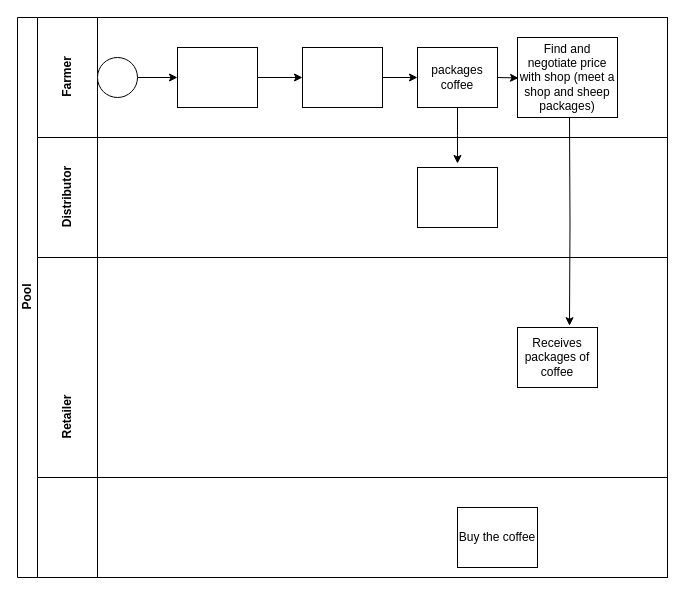
Image size: 685x595. Some labels were removed from this diagram. Each missing label, with the centre of its shape:
"Buy packages" belongs at point 457,197.
"Consumer" belongs at point 352,527.
"Harvest coffee" belongs at point 217,77.
"process coffee" belongs at point 342,77.
